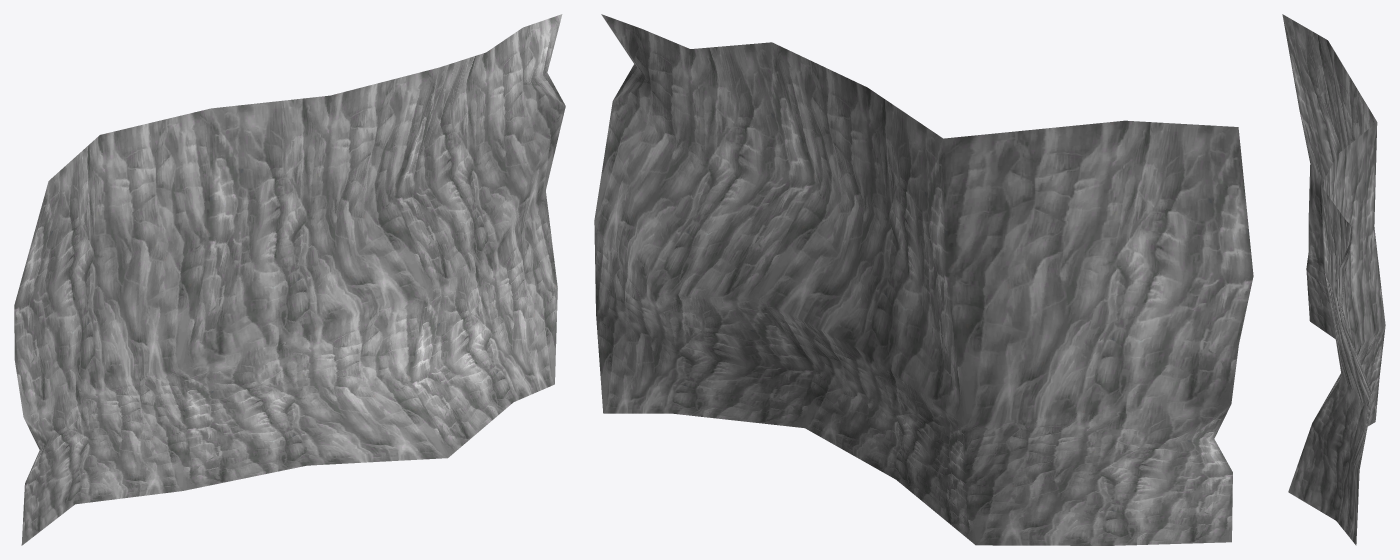
Rendered from SWORDLIGHT20_PS-AREA03_191.fbx.
3 renders of one model, left to right at view 1: azimuth 30°, elevation 25°; view 2: azimuth 150°, elevation 25°; view 3: azimuth 270°, elevation 25°, orthographic. The views are drawn at different scales.
Parts seen in each view (by area): view 1: SWORDLIGHT20_PS-AREA03_191; view 2: SWORDLIGHT20_PS-AREA03_191; view 3: SWORDLIGHT20_PS-AREA03_191.
Part boxes in pixels (x1,y1,x2,y2): SWORDLIGHT20_PS-AREA03_191: (14, 14, 565, 545); SWORDLIGHT20_PS-AREA03_191: (594, 14, 1253, 545); SWORDLIGHT20_PS-AREA03_191: (1282, 14, 1385, 545).
Size of the model in its own units: 242036 by 161214 by 44829.
Materials: 1 (1 with a texture image).
